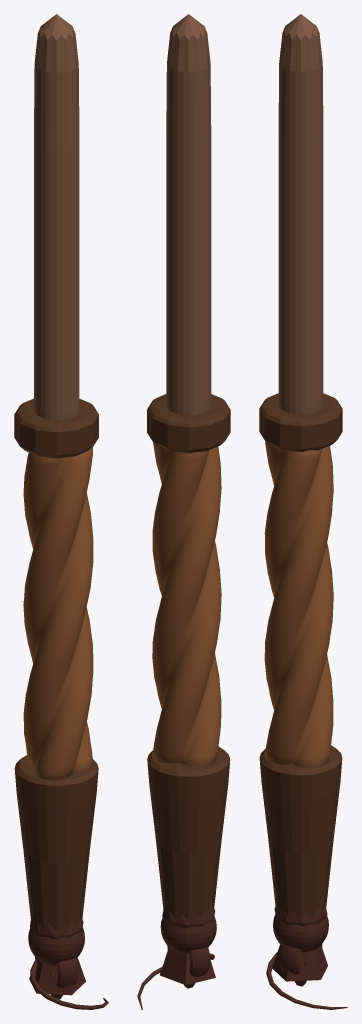
The model's file is Wand 810.glb.
3 views of the same model, side by side, from view 1: azimuth 30°, elevation 25°; view 2: azimuth 210°, elevation 25°; view 3: azimuth 330°, elevation 25° (orthographic).
Parts seen in each view (by area): view 1: GeneratedWand, Pommel_4, Pommel_9, Pommel_10, Pommel_2; view 2: GeneratedWand, Pommel_4, Pommel_9, Pommel_2; view 3: GeneratedWand, Pommel_4, Pommel_9, Pommel_2, Pommel_10.
Part boxes in pixels (x1,y1,x2,y2): GeneratedWand: [14, 14, 98, 939]; Pommel_4: [28, 927, 84, 965]; Pommel_9: [29, 957, 85, 995]; Pommel_10: [30, 959, 108, 1009]; Pommel_2: [35, 957, 78, 987]; GeneratedWand: [147, 14, 230, 928]; Pommel_4: [160, 916, 216, 953]; Pommel_9: [160, 947, 215, 985]; Pommel_2: [167, 946, 209, 976]; GeneratedWand: [259, 14, 342, 926]; Pommel_4: [273, 914, 328, 952]; Pommel_9: [272, 944, 327, 981]; Pommel_2: [279, 944, 322, 974]; Pommel_10: [266, 952, 347, 1009].
Size of the model in its own units: 0.0457 by 0.5158 by 0.0401.
